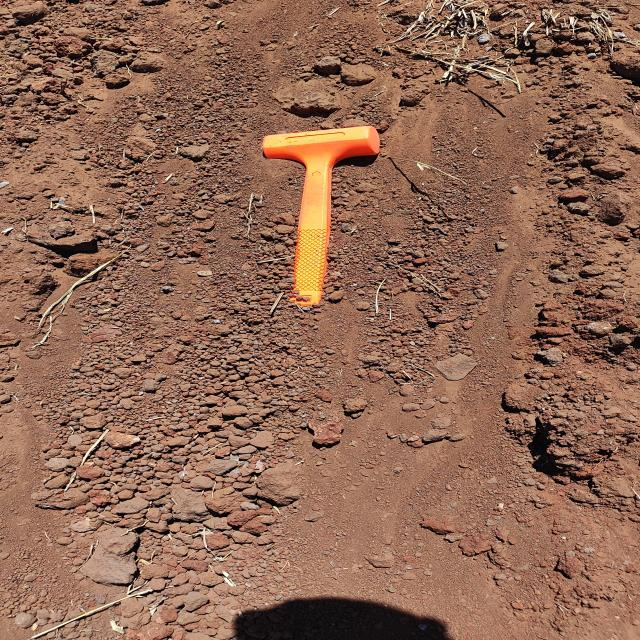Orange_hammer: (260, 125, 381, 308)
